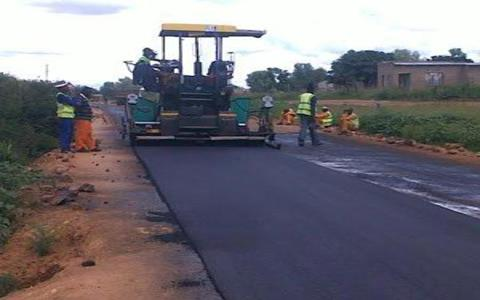Proper road: (171, 152, 348, 282)
